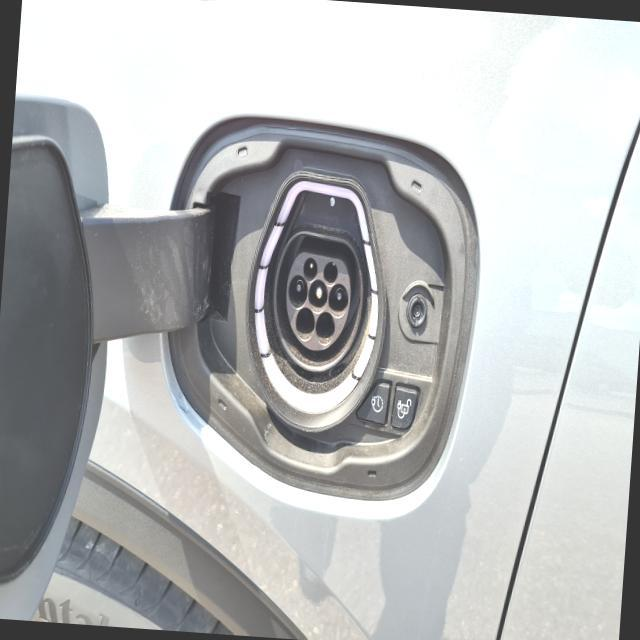Type 2: (248, 226, 392, 394)
